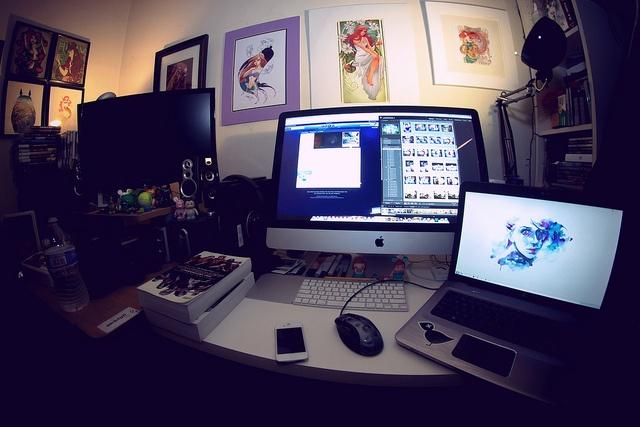AIO PC-Monitor-TV: (265, 106, 489, 256), (76, 85, 216, 201)
